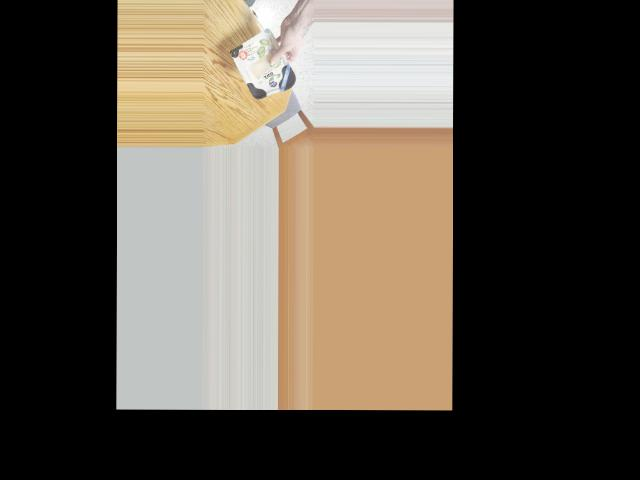cheese: (234, 36, 294, 98)
